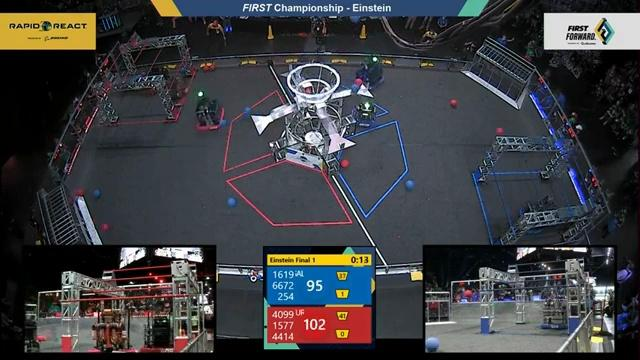robot: (89, 303, 135, 353), (515, 191, 559, 236), (351, 47, 389, 89), (140, 309, 175, 353), (192, 94, 225, 132), (349, 93, 380, 130), (540, 295, 569, 331)
